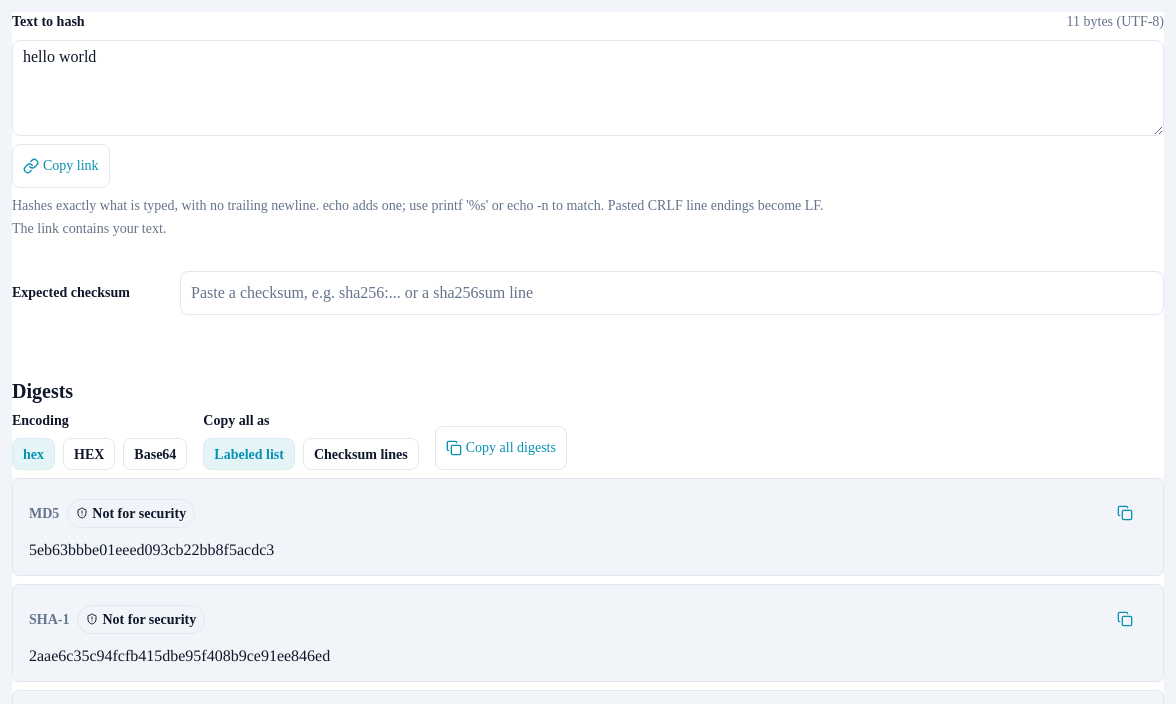
HashTool verify box (OUT-04) › OUT-04: a malformed value adds the neutral length hint
In the field with test id "hash-verify": (672, 293) left=180, top=271, right=1164, bottom=315, type "xyz"
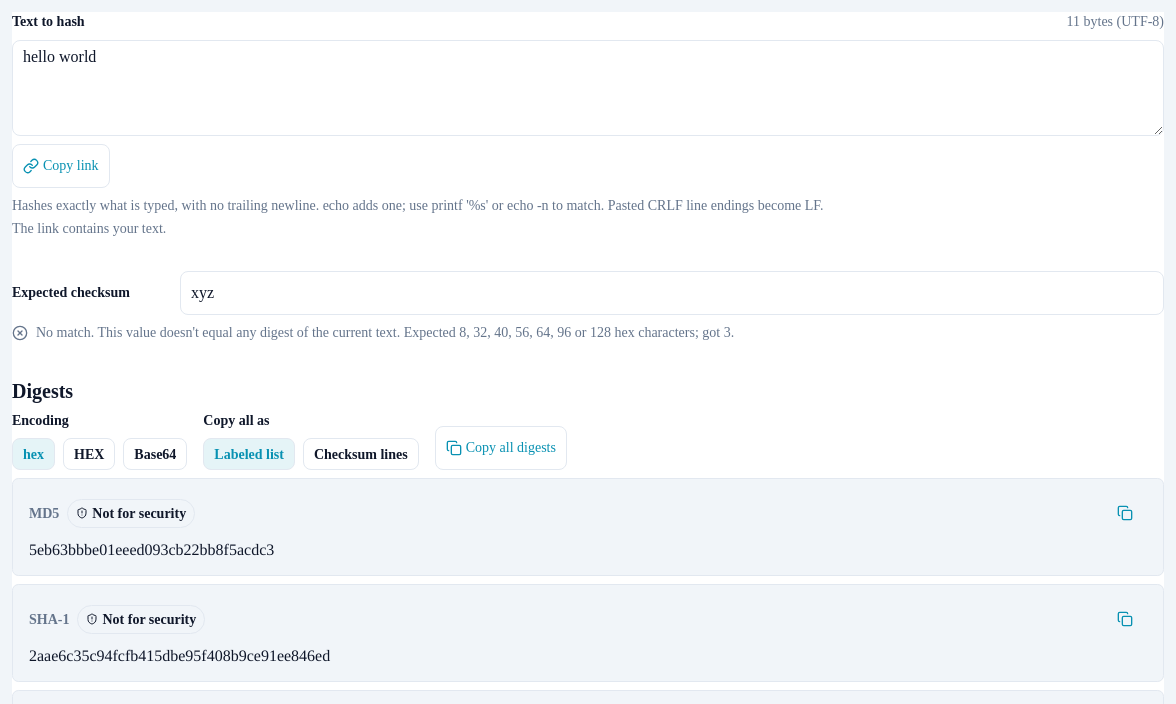
expect the element with test id "hash-verify-result" shows "No match. This value doesn't equal any digest of the current text. Expected 8, 32, 40, 56, 64, 96 or 128 hex characters; got 3.": met, box left=12, top=325, right=734, bottom=341
